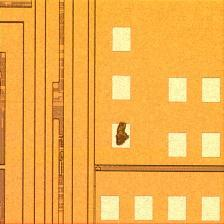PARTICLE: (108, 121, 136, 149)
